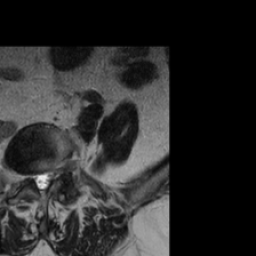CCS_normal: (38, 167, 46, 204)
LFS_normal: (52, 157, 62, 185)
LLS_normal: (46, 165, 52, 189)
RFS_severe_stenosis: (23, 165, 32, 188)
RLS_normal: (31, 167, 39, 189)
